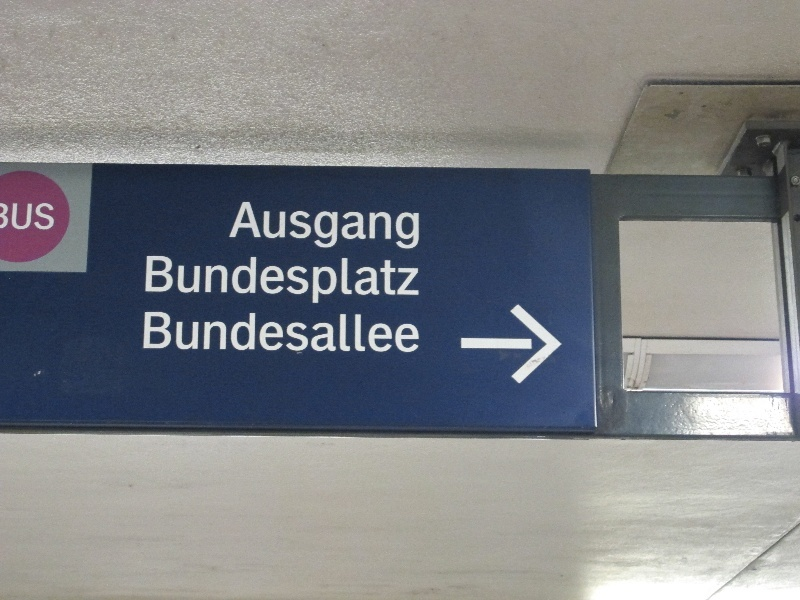text: (257, 202, 272, 255), (273, 202, 288, 255), (289, 202, 304, 255), (305, 202, 320, 255), (321, 202, 336, 255), (337, 202, 352, 255), (353, 202, 368, 255), (369, 202, 384, 255), (385, 202, 400, 255), (401, 202, 416, 255), (242, 202, 256, 255), (161, 255, 176, 304), (177, 255, 192, 304), (193, 255, 208, 304), (209, 255, 224, 304), (225, 255, 240, 304), (241, 255, 256, 304), (257, 255, 272, 304), (273, 255, 288, 304), (289, 255, 304, 304), (305, 255, 320, 304), (321, 255, 336, 304), (337, 255, 352, 304), (353, 255, 368, 304), (369, 255, 384, 304), (385, 255, 400, 304), (401, 255, 416, 304), (146, 255, 160, 304), (145, 312, 160, 354), (161, 312, 176, 354), (177, 312, 192, 354), (193, 312, 208, 354), (209, 312, 224, 354), (225, 312, 240, 354), (241, 312, 256, 354), (257, 312, 272, 354), (273, 312, 288, 354), (289, 312, 304, 354), (305, 312, 320, 354), (321, 312, 336, 354), (337, 312, 352, 354), (353, 312, 368, 354), (369, 312, 384, 354), (385, 312, 400, 354), (401, 312, 416, 354), (1, 203, 16, 231), (17, 203, 32, 231), (33, 203, 48, 231), (49, 203, 55, 231), (417, 202, 420, 255), (417, 255, 420, 304), (417, 312, 419, 354)
